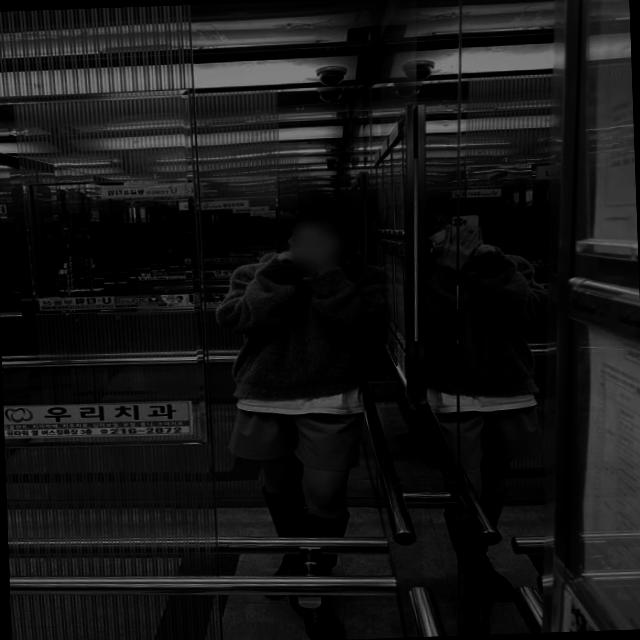shortpants: (228, 391, 368, 477)
sweater: (213, 245, 389, 400)
